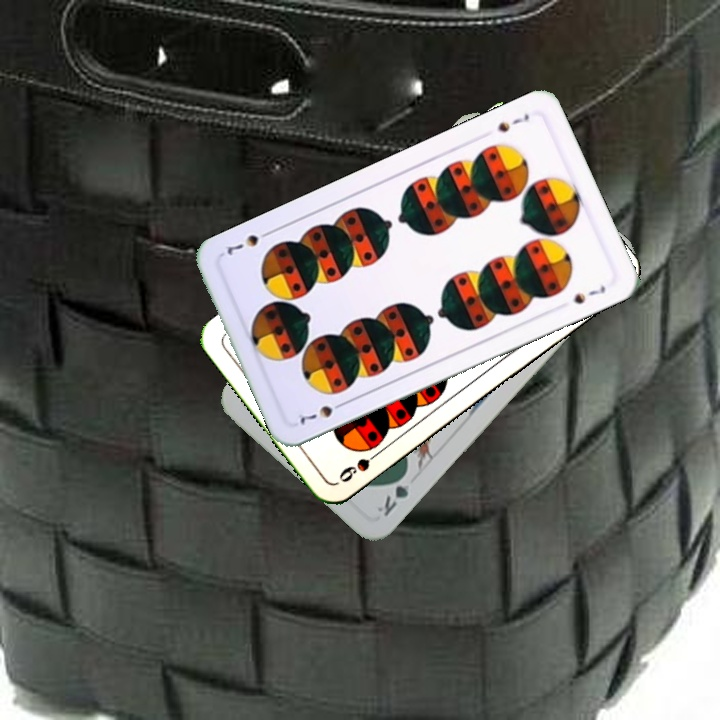GK: (373, 466, 412, 520)
S7: (292, 397, 349, 429), (494, 109, 532, 135)
S9: (335, 445, 385, 485)
